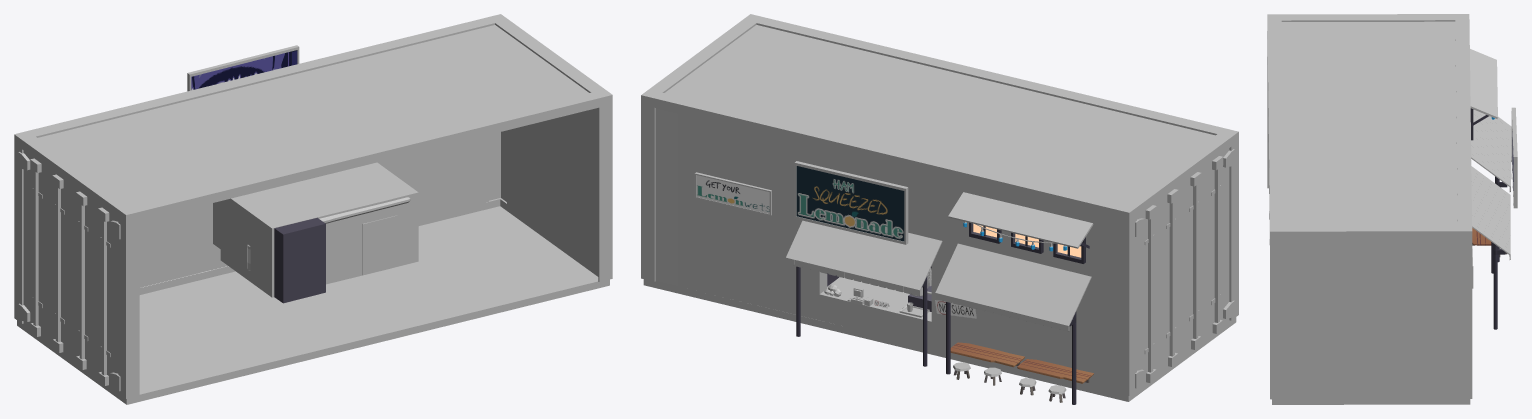
File: CMHamSqueezedLemonade.fbx
The picture shows the model from 3 angles, left to right: view 1: azimuth 30°, elevation 25°; view 2: azimuth 150°, elevation 25°; view 3: azimuth 270°, elevation 25°; orthographic projection. The views are drawn at different scales.
Visible parts, largest first — view 1: BoxCrate.256, Shelf.017, Sign.095, LemonadeDoor.002, Pipes.017; view 2: BoxCrate.256, Awning.179, Awning.178, Sign.095, Windows.063, Sign.096, Shelves.013, Shelves.014; view 3: BoxCrate.256, Awning.178, Awning.179, Windows.063, Sign.095, AwningPole.008.
Part boxes in pixels (x1=…): BoxCrate.256: x1=14, y1=14, x2=612, y2=404; Shelf.017: x1=274, y1=217, x2=325, y2=303; Sign.095: x1=187, y1=45, x2=299, y2=91; LemonadeDoor.002: x1=362, y1=215, x2=397, y2=275; Pipes.017: x1=319, y1=197, x2=410, y2=223; BoxCrate.256: x1=641, y1=14, x2=1238, y2=401; Awning.179: x1=935, y1=243, x2=1091, y2=331; Awning.178: x1=785, y1=220, x2=942, y2=296; Sign.095: x1=794, y1=161, x2=908, y2=244; Windows.063: x1=948, y1=192, x2=1093, y2=263; Sign.096: x1=694, y1=172, x2=771, y2=215; Shelves.013: x1=950, y1=342, x2=1024, y2=367; Shelves.014: x1=1017, y1=359, x2=1093, y2=383; BoxCrate.256: x1=1267, y1=14, x2=1472, y2=404; Awning.178: x1=1471, y1=166, x2=1510, y2=259; Awning.179: x1=1471, y1=109, x2=1511, y2=191; Windows.063: x1=1470, y1=49, x2=1497, y2=140; Sign.095: x1=1511, y1=107, x2=1517, y2=208; AwningPole.008: x1=1493, y1=244, x2=1505, y2=329.
Size of the model in its own units: 2440 by 906 by 1181.
